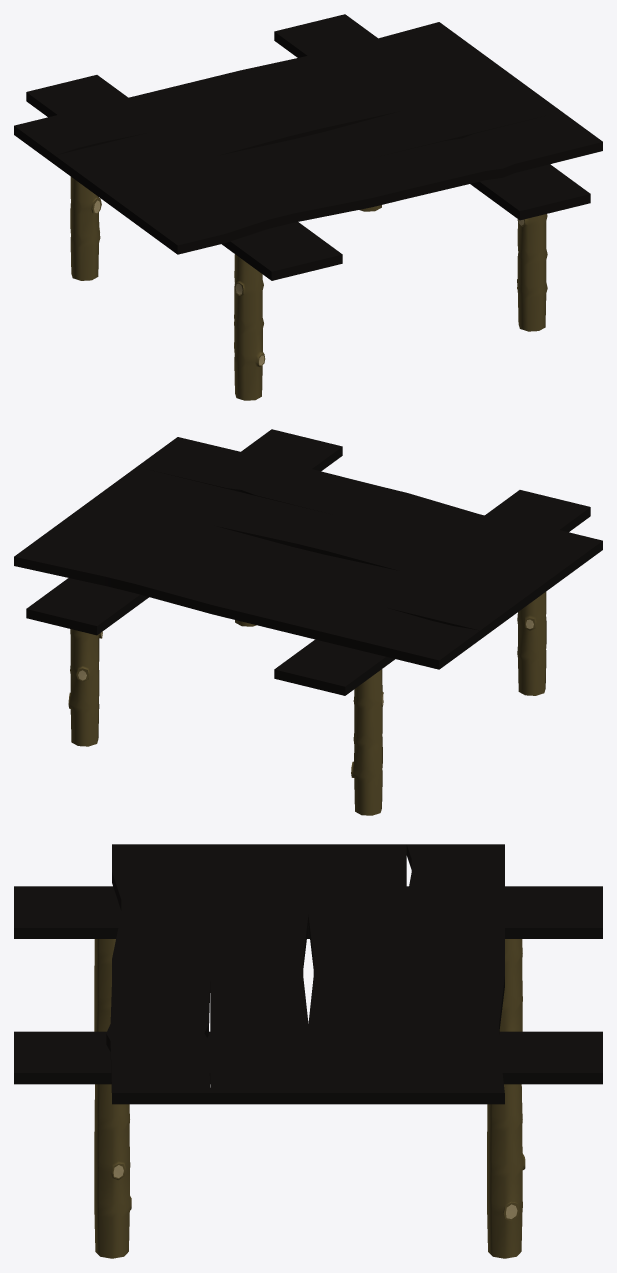
Rendered from Platform_Build_V1.fbx.
3 views of the same model, one above another, from view 1: azimuth 30°, elevation 25°; view 2: azimuth 150°, elevation 25°; view 3: azimuth 270°, elevation 25° (orthographic). The views are drawn at different scales.
Parts seen in each view (by area): view 1: pCube10; view 2: pCube10; view 3: pCube10.
Part boxes in pixels (box(x1,y1,x2,y2)): pCube10: box(14, 14, 602, 400); pCube10: box(14, 429, 602, 815); pCube10: box(14, 844, 602, 1258).
Bounding box in the file's own units: 6 × 2.25 × 6.
